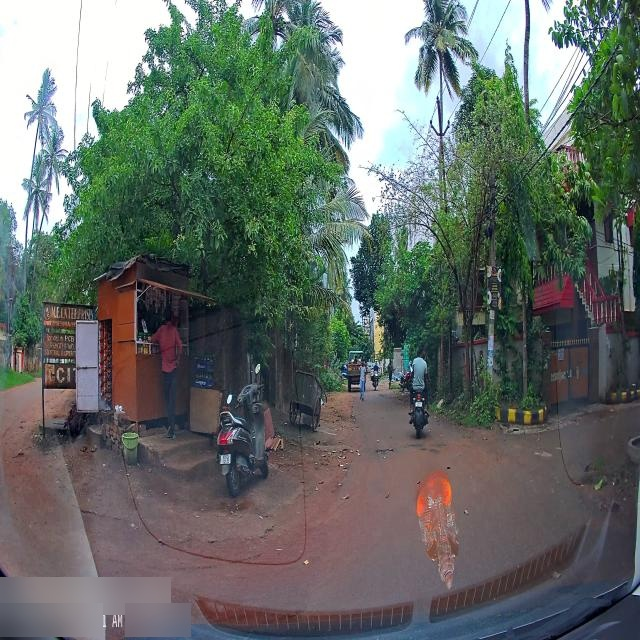pothole: (581, 486, 616, 504), (373, 447, 395, 463), (403, 443, 429, 449), (435, 441, 449, 446), (429, 450, 439, 453)
